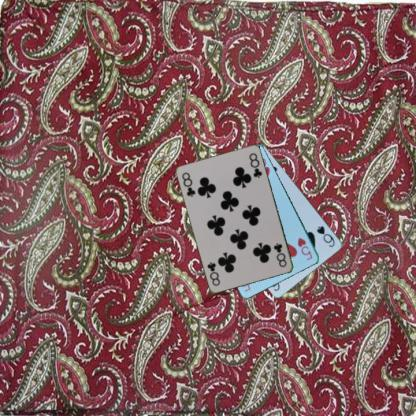5h: (295, 235, 314, 262)
6s: (314, 224, 336, 248)
8c: (270, 240, 288, 269), (180, 170, 198, 198)
